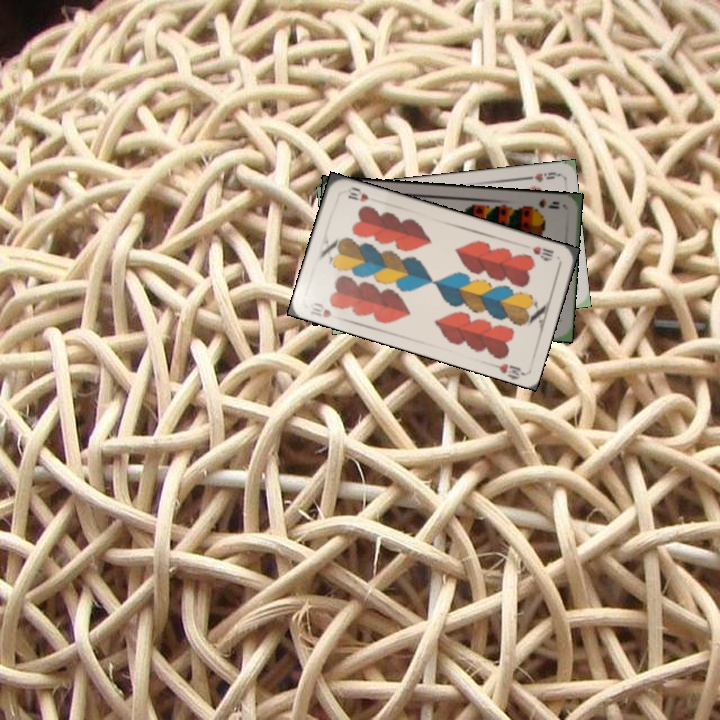H10: (306, 298, 334, 320), (529, 242, 556, 263)
H9: (520, 168, 561, 185)
S9: (524, 195, 562, 214)
